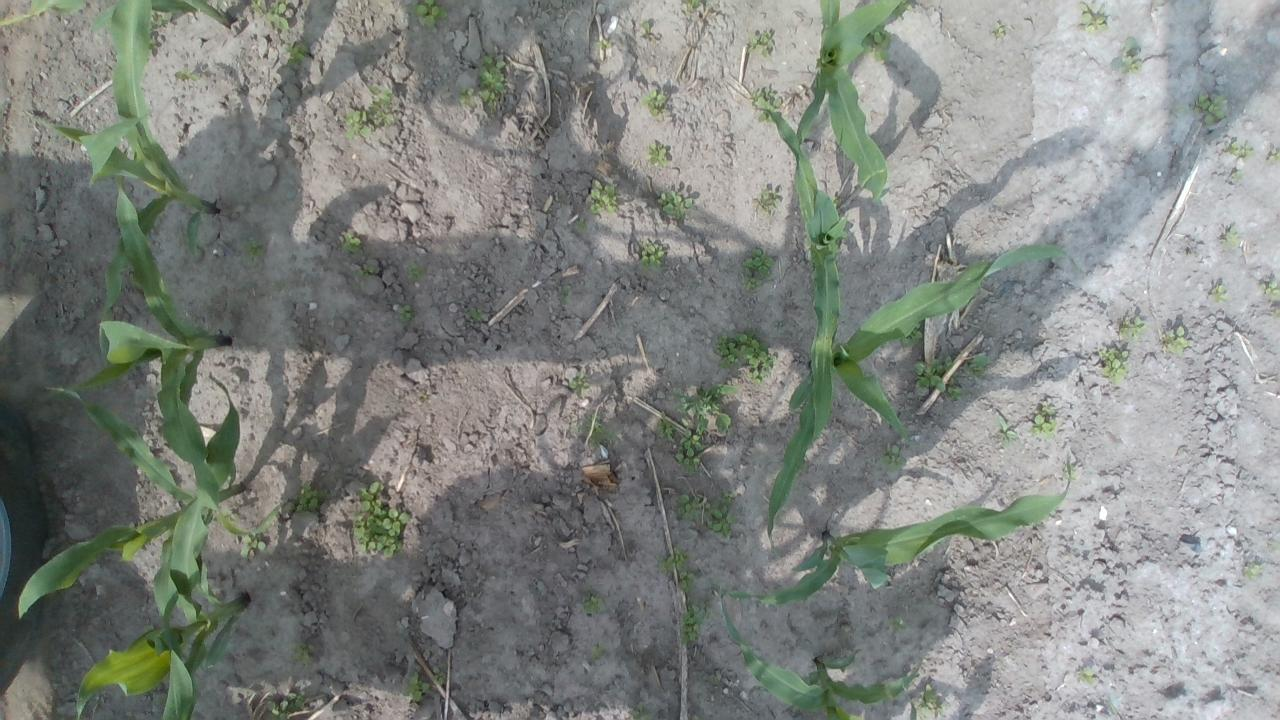Maize: (761, 238, 1070, 558), (29, 0, 218, 324), (51, 177, 230, 517), (19, 364, 245, 630), (714, 481, 1072, 608), (72, 518, 252, 720), (750, 92, 844, 444), (706, 583, 920, 720), (796, 0, 911, 210), (0, 0, 242, 32)
Weeds: (352, 480, 412, 558), (668, 383, 741, 436), (713, 330, 777, 388), (676, 488, 738, 541), (344, 82, 394, 138), (679, 592, 716, 648), (568, 412, 620, 450), (656, 546, 697, 591), (476, 56, 506, 114), (857, 22, 893, 64), (674, 427, 705, 475), (741, 247, 774, 292), (910, 683, 950, 720), (914, 356, 953, 391), (1098, 346, 1131, 386), (248, 0, 290, 31), (748, 86, 782, 124), (1112, 36, 1144, 74), (267, 690, 307, 720), (1029, 400, 1058, 441), (288, 479, 324, 511), (656, 190, 694, 220), (1075, 0, 1110, 32), (1192, 92, 1226, 124), (589, 179, 617, 216), (1159, 324, 1191, 356), (994, 412, 1019, 452), (408, 0, 446, 25), (753, 187, 782, 219), (400, 671, 430, 701), (747, 28, 776, 59), (637, 240, 664, 272), (1118, 316, 1148, 344), (879, 442, 906, 473), (288, 640, 316, 668), (239, 532, 266, 560), (962, 352, 989, 380), (1222, 138, 1256, 160), (641, 88, 666, 116), (241, 238, 270, 262), (280, 41, 310, 64), (581, 588, 606, 614), (948, 370, 968, 402), (148, 8, 172, 34), (898, 321, 924, 345), (646, 140, 668, 168), (568, 369, 590, 396), (656, 411, 675, 442), (1218, 224, 1241, 248), (1258, 280, 1280, 304), (455, 84, 476, 108), (406, 261, 430, 282), (889, 0, 914, 20), (125, 265, 144, 291), (886, 614, 912, 632), (632, 700, 654, 720), (340, 232, 360, 254), (1242, 562, 1264, 580), (430, 664, 448, 686), (589, 640, 607, 662), (988, 21, 1008, 40), (1210, 284, 1229, 304), (173, 67, 200, 81), (356, 264, 379, 280), (220, 505, 238, 524), (1077, 668, 1096, 686), (640, 19, 654, 42), (1060, 463, 1076, 481), (801, 670, 820, 685), (397, 302, 412, 320), (558, 285, 572, 303), (681, 0, 702, 12), (1267, 146, 1280, 165), (469, 308, 488, 321), (574, 217, 586, 235), (594, 39, 614, 49), (272, 277, 286, 291), (150, 695, 164, 708), (1228, 169, 1242, 181), (830, 194, 841, 208), (148, 36, 156, 55), (710, 673, 721, 686), (1267, 540, 1279, 550), (1274, 308, 1280, 318), (692, 715, 701, 720)
